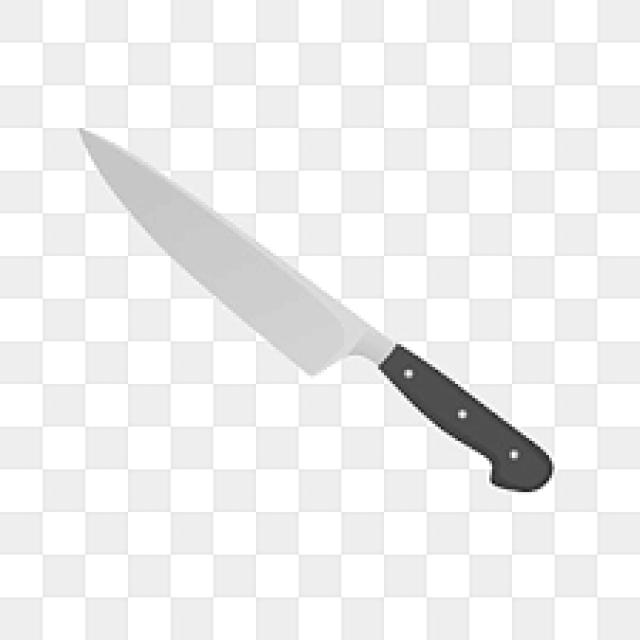Knife: (77, 125, 552, 492)
